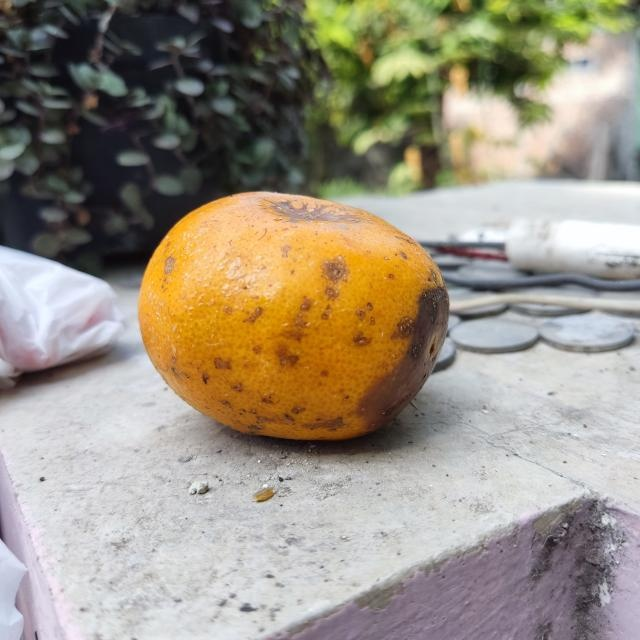agrume: (130, 189, 454, 451)
